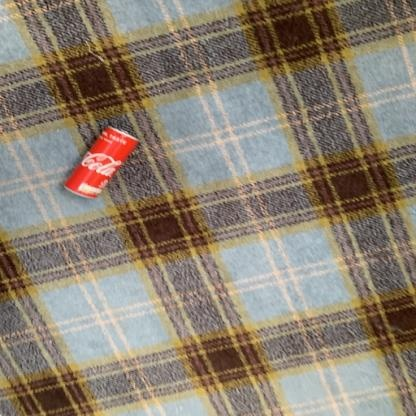trash: (64, 127, 138, 197)
